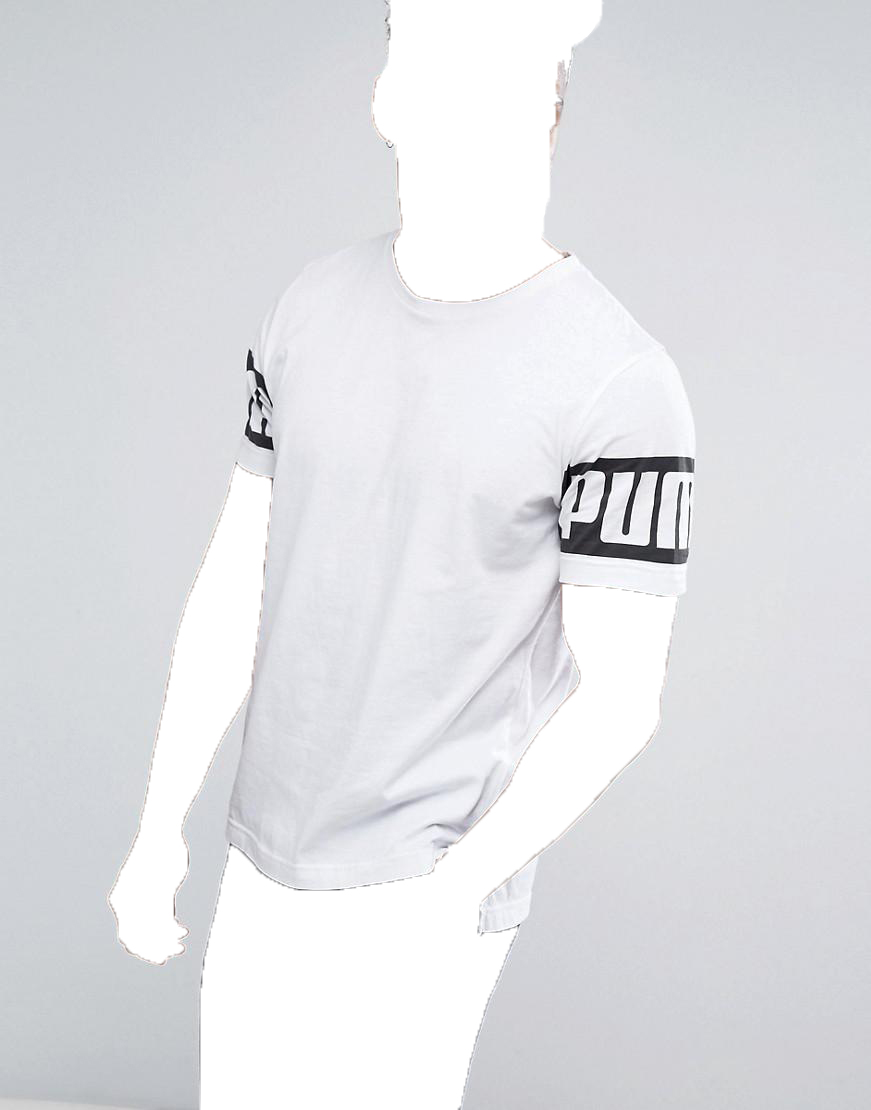teeshirt: (210, 218, 698, 935)
